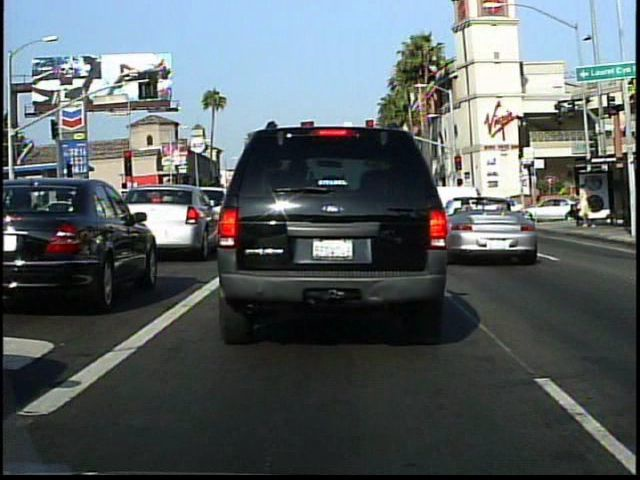person: (570, 180, 595, 232)
